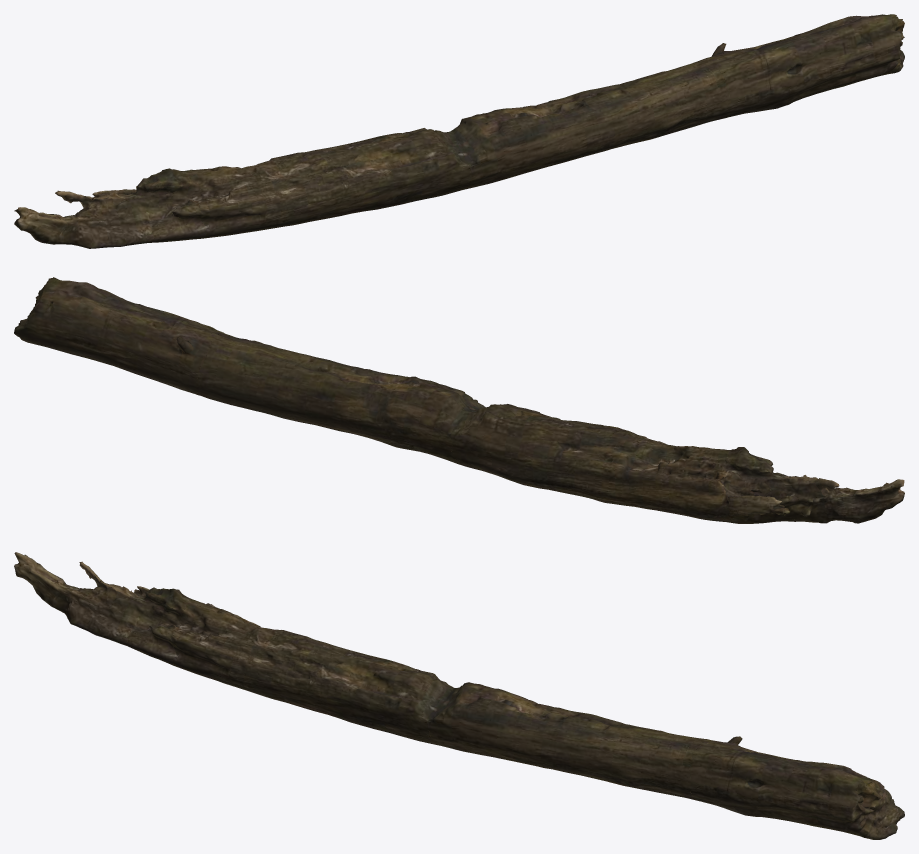
File: dead_tree_trunk.glb
3 renders of one model, top to bottom at view 1: azimuth 30°, elevation 25°; view 2: azimuth 150°, elevation 25°; view 3: azimuth 330°, elevation 25°, orthographic.
Visible parts, largest first — view 1: dead_tree_trunk; view 2: dead_tree_trunk; view 3: dead_tree_trunk.
Boxes of the visible parts, left/top/right/bottom form: dead_tree_trunk: left=14, top=14, right=904, bottom=248; dead_tree_trunk: left=14, top=277, right=904, bottom=523; dead_tree_trunk: left=14, top=552, right=904, bottom=839.
Bounding box in the file's own units: 3.05 × 0.2897 × 0.2772.
Materials: 1 (1 with a texture image).
